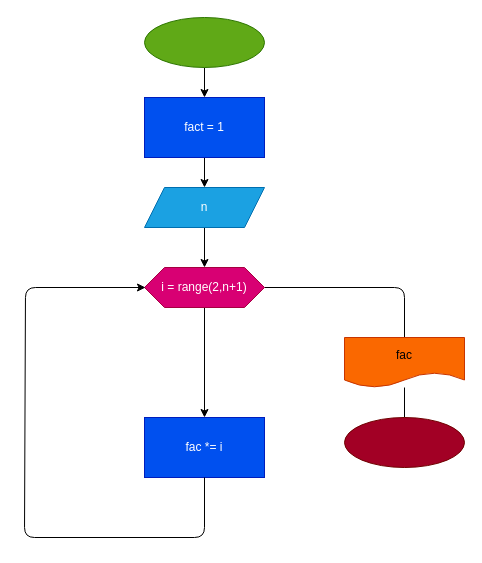
This 482x563 diagram has some shape labels left out. The centre of each missing label's shape, as x and y in pixels:
"FIN" goes at [404,442].
"INICIO" goes at [204,42].
